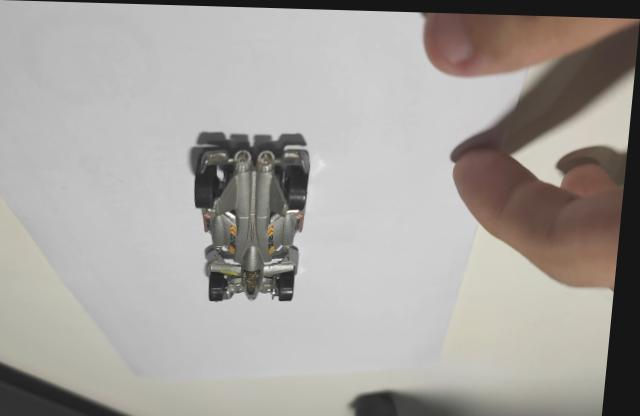05_DC121: (192, 131, 313, 300)
